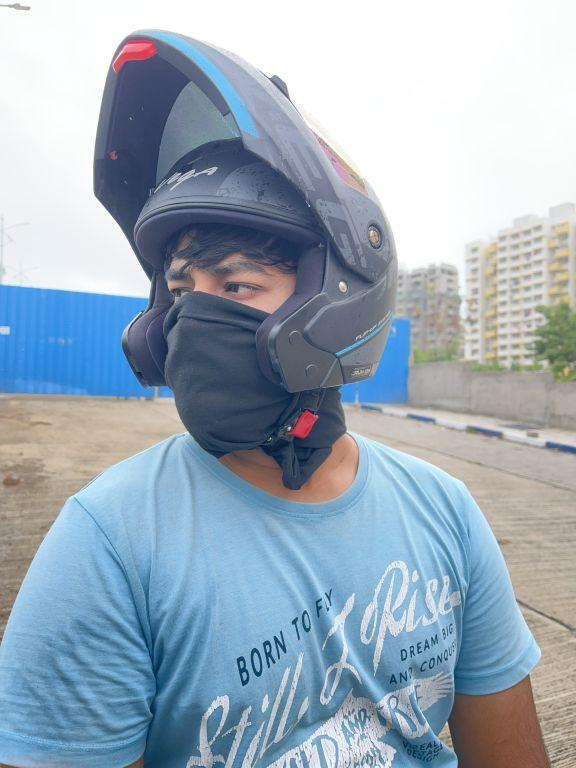helmet: (79, 20, 405, 461)
